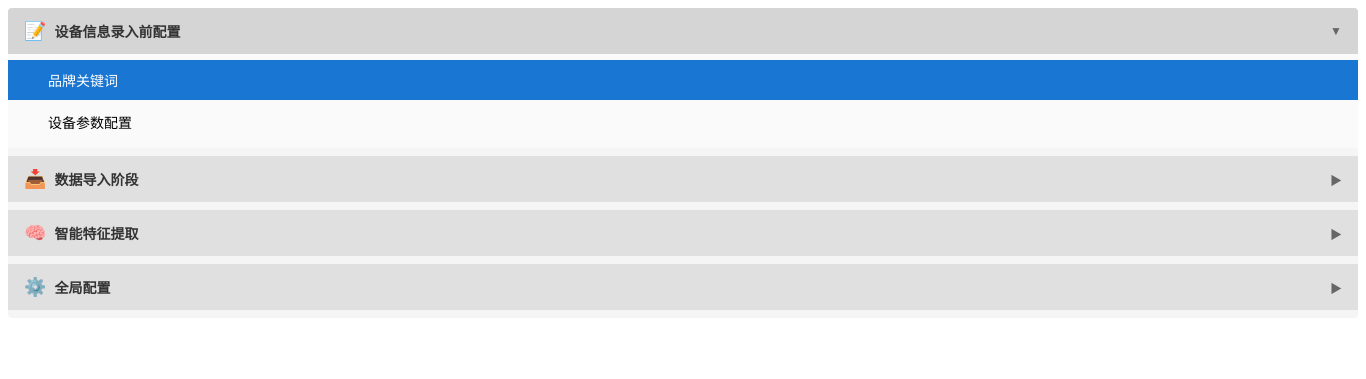
Test: MenuNavigation › 阶段展开/折叠 › 展开阶段应该显示菜单项
This screenshot has width=1366, height=379.
Click the element with class "stage-header" showing "📥 数据导入阶段 ▶": (683, 179) [8, 156, 1358, 202]
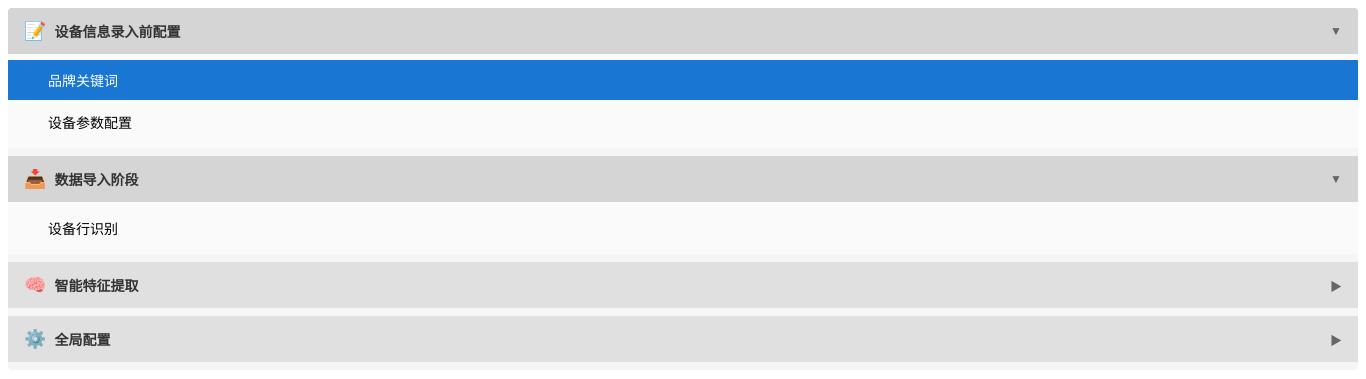
Expected: the element with class "stage-items" showing "设备行识别" is shown, [8, 202, 1358, 254]
